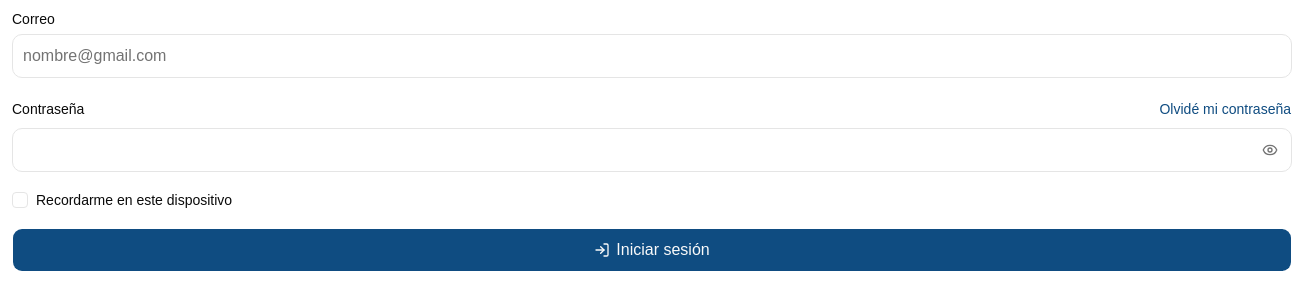
LoginForm › permite ver la contraseña escrita antes de enviarla
In the field labelled "Correo": (652, 56) [12,34,1292,78], type "ana@gmail.com"
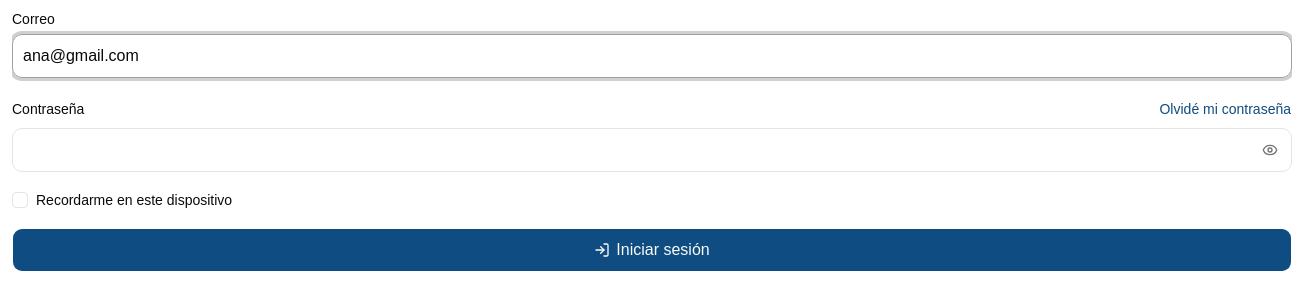
In the password field labelled "Contraseña": (652, 150) [12,128,1292,172], type "secreta123"
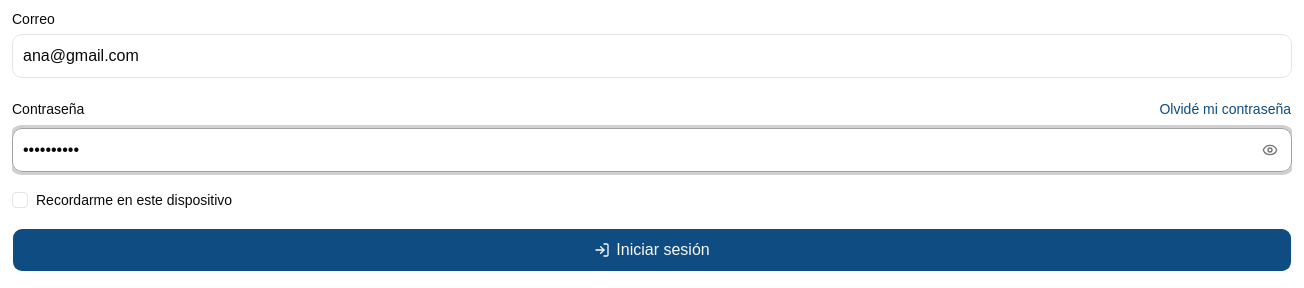
Click the button named "Mostrar contraseña": (1270, 150) [1254,134,1286,166]
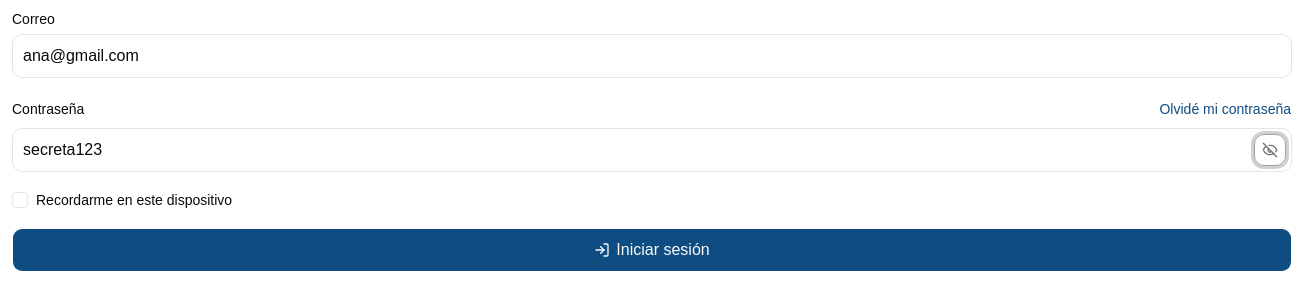
expect the field labelled "Contraseña" shows its text: met, box [12,128,1292,172]
